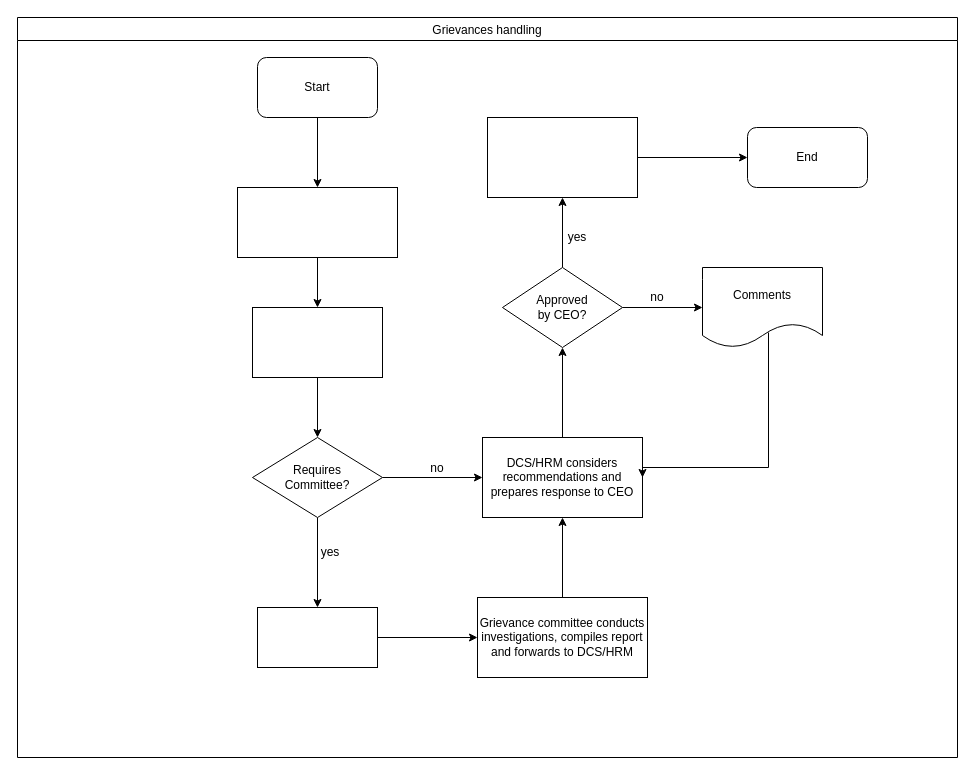
This 975x775 diagram has some shape labels left out. The shapes that lost their labels are listed below. From the top down, each one's box as (x1, y1, x2, y2) in pixels, then its label:
(486, 116, 638, 198): DCS/HRM implements decisions of the CEO
(236, 186, 398, 258): Employee registers grievance / problem in the system and submits to DCS/HRMs
(252, 306, 382, 378): DCS/HRM reviews the grievance
(256, 606, 378, 668): Grievance committee is appointed
